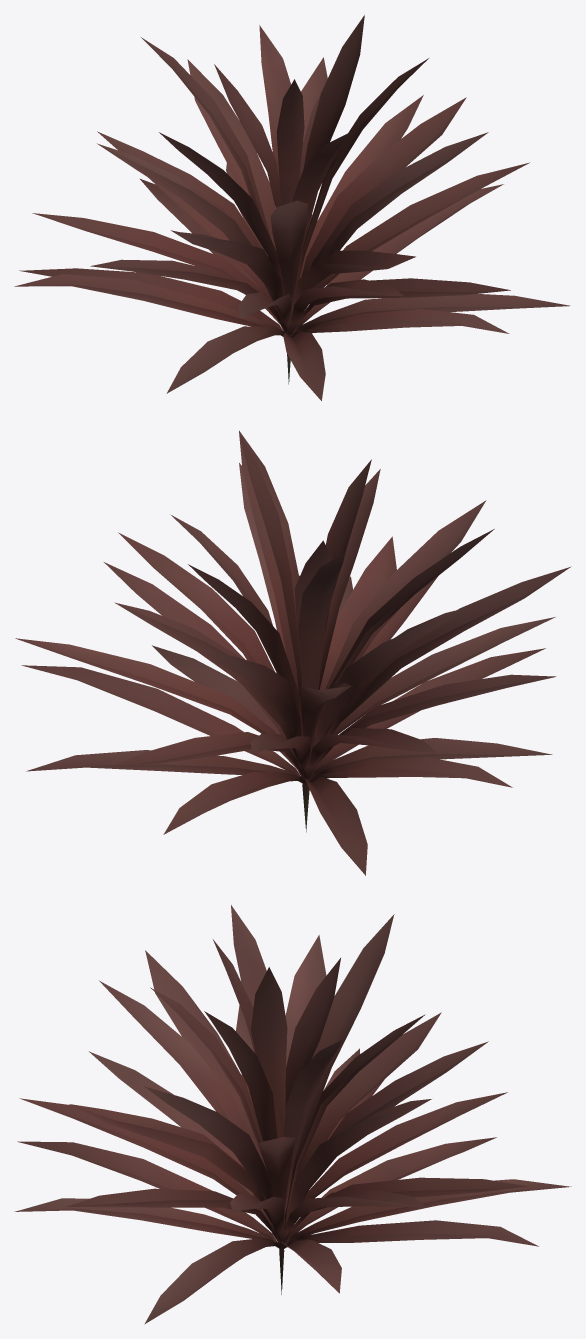
File: plants-leafy-plants-red-spiky-plant_v2.fbx
3 views of the same model, one above another, from view 1: azimuth 30°, elevation 25°; view 2: azimuth 150°, elevation 25°; view 3: azimuth 270°, elevation 25° (orthographic). The views are drawn at different scales.
Visible parts, largest first — view 1: Red Spiky Plant_v2; view 2: Red Spiky Plant_v2; view 3: Red Spiky Plant_v2.
Boxes of the visible parts, x1,y1,x2,y2 form: Red Spiky Plant_v2: (14,15,570,400); Red Spiky Plant_v2: (15,430,571,875); Red Spiky Plant_v2: (14,905,571,1324).
Size of the model in its own units: 0.8 by 0.5707 by 0.7931.
